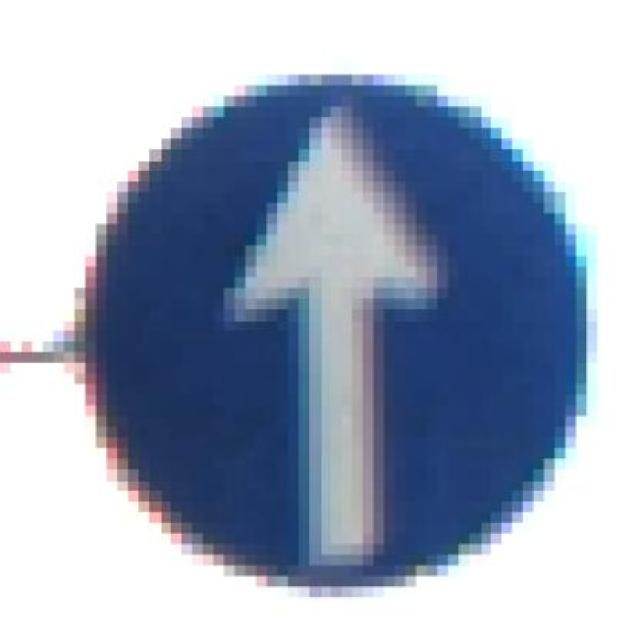Straight Ahead Only: (42, 64, 598, 598)
